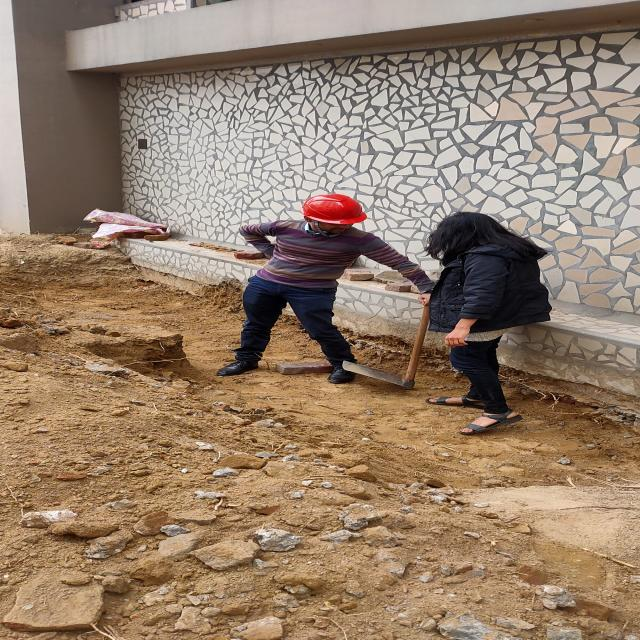no jacket: (237, 192, 436, 382)
unsafe: (430, 210, 557, 433)
